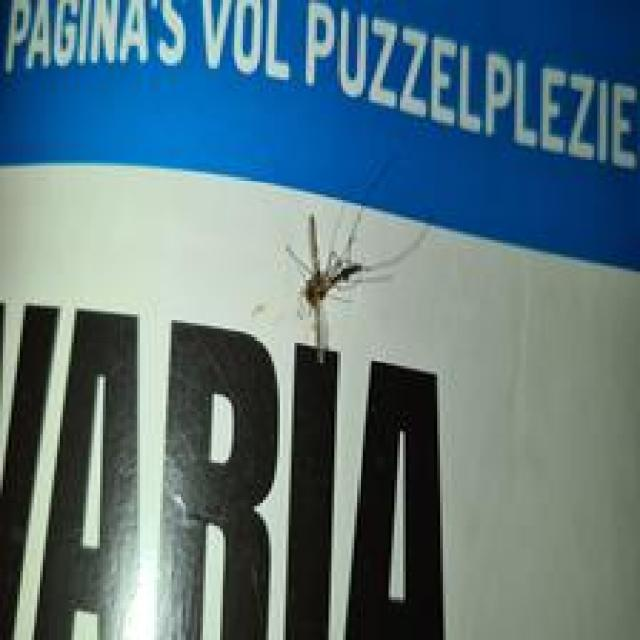Culex: (250, 202, 433, 362)
